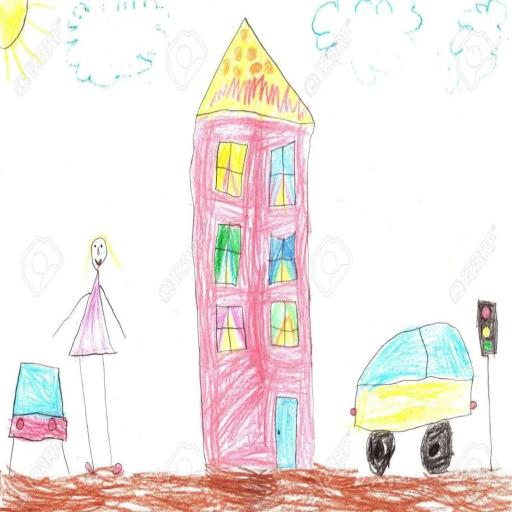person: (66, 226, 133, 473)
